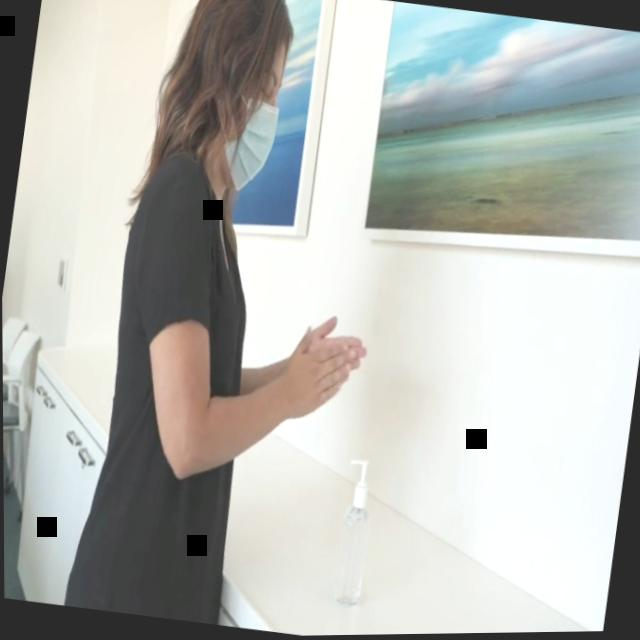Mask: (213, 36, 290, 196)
